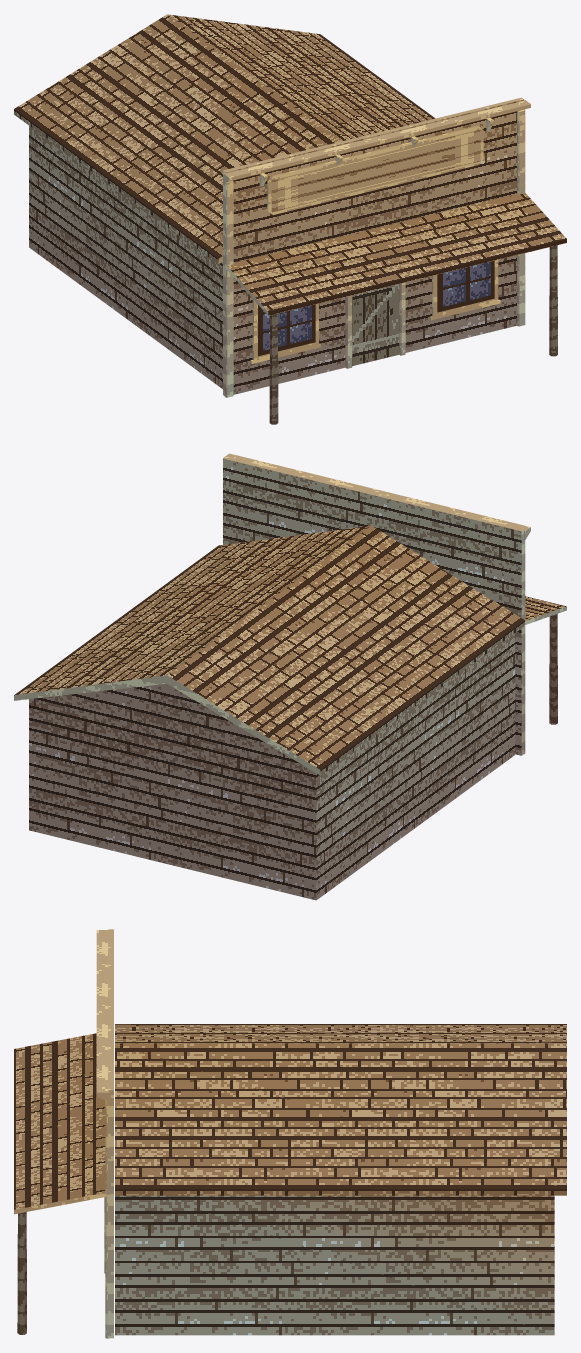
Rendered from wtown.store.glb.
The picture shows the model from 3 angles, top to bottom: view 1: azimuth 30°, elevation 25°; view 2: azimuth 150°, elevation 25°; view 3: azimuth 270°, elevation 25°; orthographic projection. The views are drawn at different scales.
Visible parts, largest first — view 1: kit_roof, kit_front, kit_body, kit_porch, kit_card_panes, kit_trim, kit_windows; view 2: kit_body, kit_roof, kit_front, kit_trim, kit_porch; view 3: kit_roof, kit_body, kit_porch, kit_trim, kit_front.
Part boxes in pixels (bbox=[...]): kit_roof: bbox=[14, 14, 435, 264]; kit_front: bbox=[223, 97, 524, 395]; kit_body: bbox=[29, 126, 222, 388]; kit_porch: bbox=[226, 193, 566, 424]; kit_card_panes: bbox=[258, 129, 494, 365]; kit_trim: bbox=[223, 100, 530, 397]; kit_windows: bbox=[250, 260, 500, 363]; kit_body: bbox=[29, 633, 515, 900]; kit_roof: bbox=[14, 525, 524, 775]; kit_front: bbox=[223, 456, 524, 755]; kit_trim: bbox=[224, 453, 530, 754]; kit_porch: bbox=[525, 596, 566, 724]; kit_roof: bbox=[115, 1024, 566, 1195]; kit_body: bbox=[115, 1195, 554, 1335]; kit_porch: bbox=[14, 1033, 105, 1334]; kit_trim: bbox=[96, 930, 109, 1338]; kit_front: bbox=[108, 929, 113, 1338].
Bounding box in the file's own units: 8 × 5.6 × 11.32.
7 materials, 7 textured.
